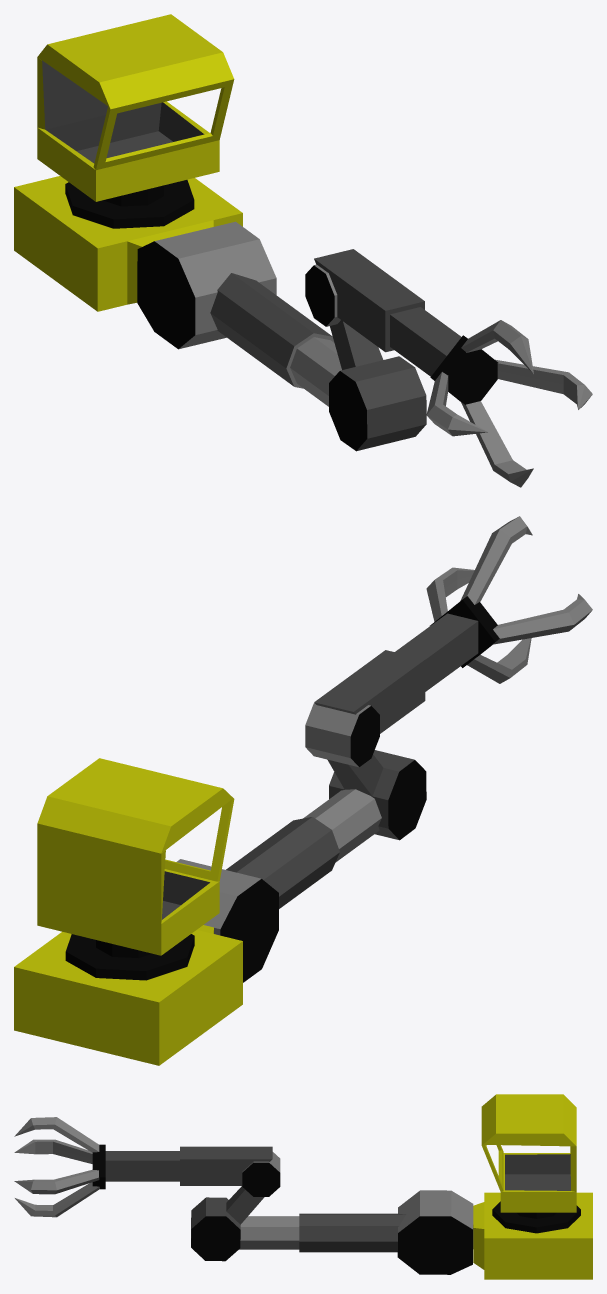
The model's file is Crane.fbx.
3 renders of one model, top to bottom at view 1: azimuth 30°, elevation 25°; view 2: azimuth 150°, elevation 25°; view 3: azimuth 270°, elevation 25°, orthographic. The views are drawn at different scales.
Parts seen in each view (by area): view 1: new crane; view 2: new crane; view 3: new crane.
Boxes of the visible parts, <box> form: new crane: <box>14,14,592,487</box>; new crane: <box>14,516,592,1065</box>; new crane: <box>14,1094,592,1279</box>.
Bounding box in the file's own units: 713 × 1055 × 3731.
